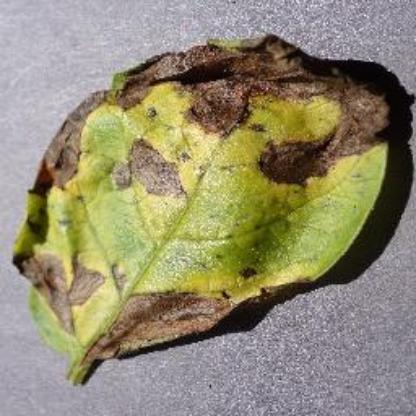Early-Blight: (12, 30, 398, 386)
